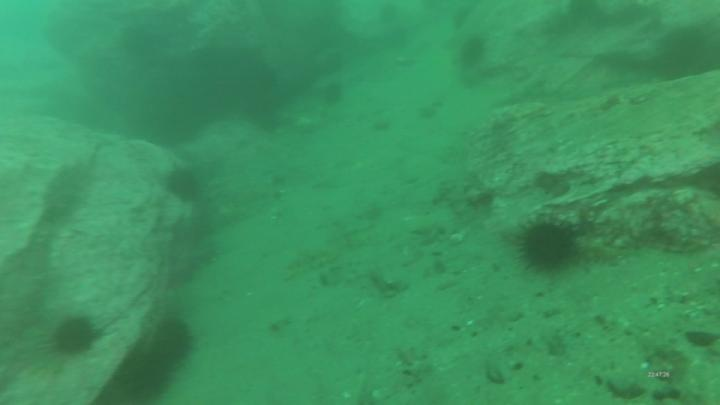echinus: (515, 215, 578, 276), (657, 27, 720, 81), (46, 313, 100, 362), (128, 354, 176, 402), (151, 317, 196, 364), (165, 166, 204, 203), (457, 36, 487, 69), (322, 79, 345, 108)
holothurian: (39, 162, 88, 227), (277, 245, 344, 287), (578, 237, 622, 265)
